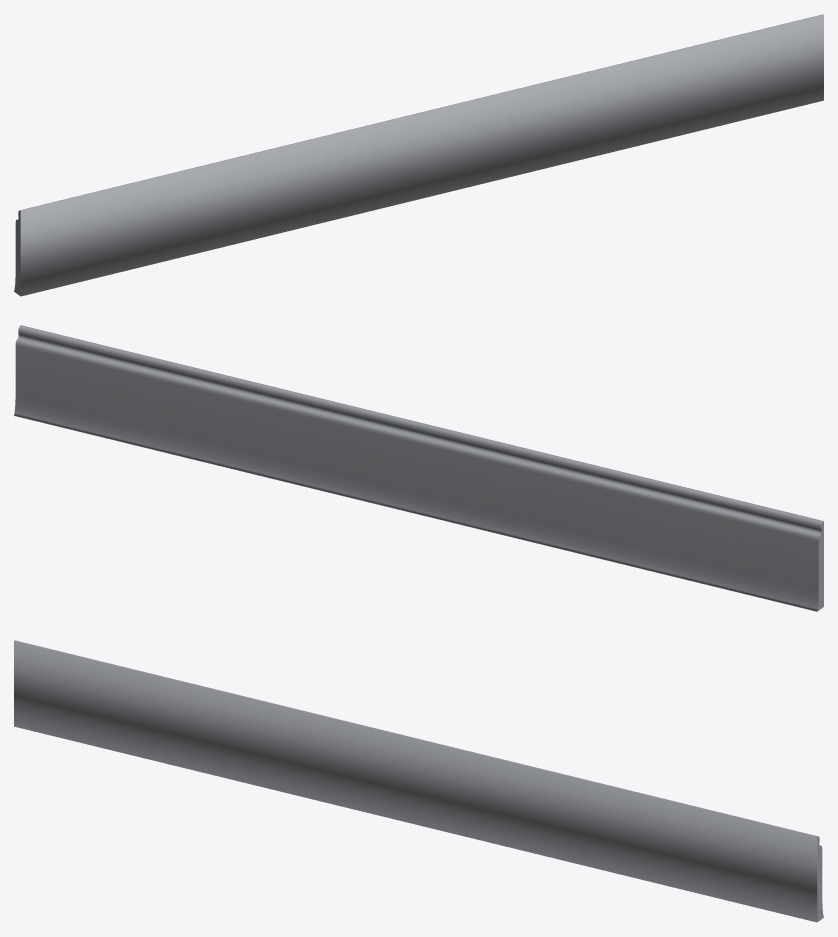
File: baseboard.glb
3 renders of one model, top to bottom at view 1: azimuth 30°, elevation 25°; view 2: azimuth 150°, elevation 25°; view 3: azimuth 330°, elevation 25°, orthographic.
Parts seen in each view (by area): view 1: Baseboard; view 2: Baseboard; view 3: Baseboard.
Part boxes in pixels (bbox=[...]): Baseboard: bbox=[14, 14, 823, 296]; Baseboard: bbox=[14, 325, 823, 611]; Baseboard: bbox=[14, 640, 823, 922].
Size of the model in its own units: 1 by 0.102 by 0.0146.
1 material, 1 textured.
